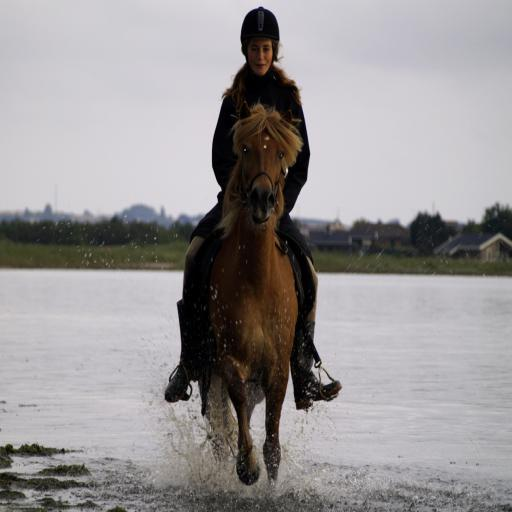horse: (196, 98, 305, 490)
